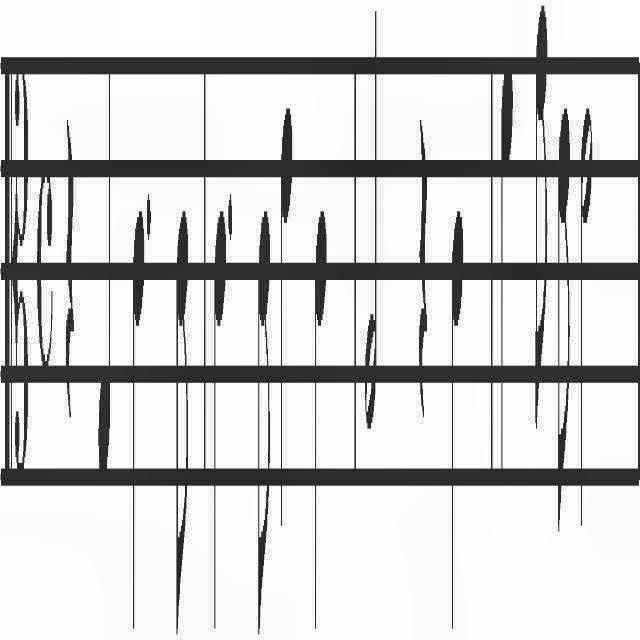Eighth-note: (534, 0, 550, 450), (256, 188, 272, 636), (556, 101, 572, 544), (175, 196, 189, 632)
Half-note: (364, 1, 380, 440), (579, 96, 593, 532)
Quarter-note: (98, 54, 114, 496), (278, 96, 294, 532), (312, 200, 328, 636), (131, 200, 145, 636), (450, 200, 464, 636), (212, 208, 226, 632), (500, 54, 512, 490)
Quarter-rest: (417, 110, 429, 426), (64, 121, 76, 432)
